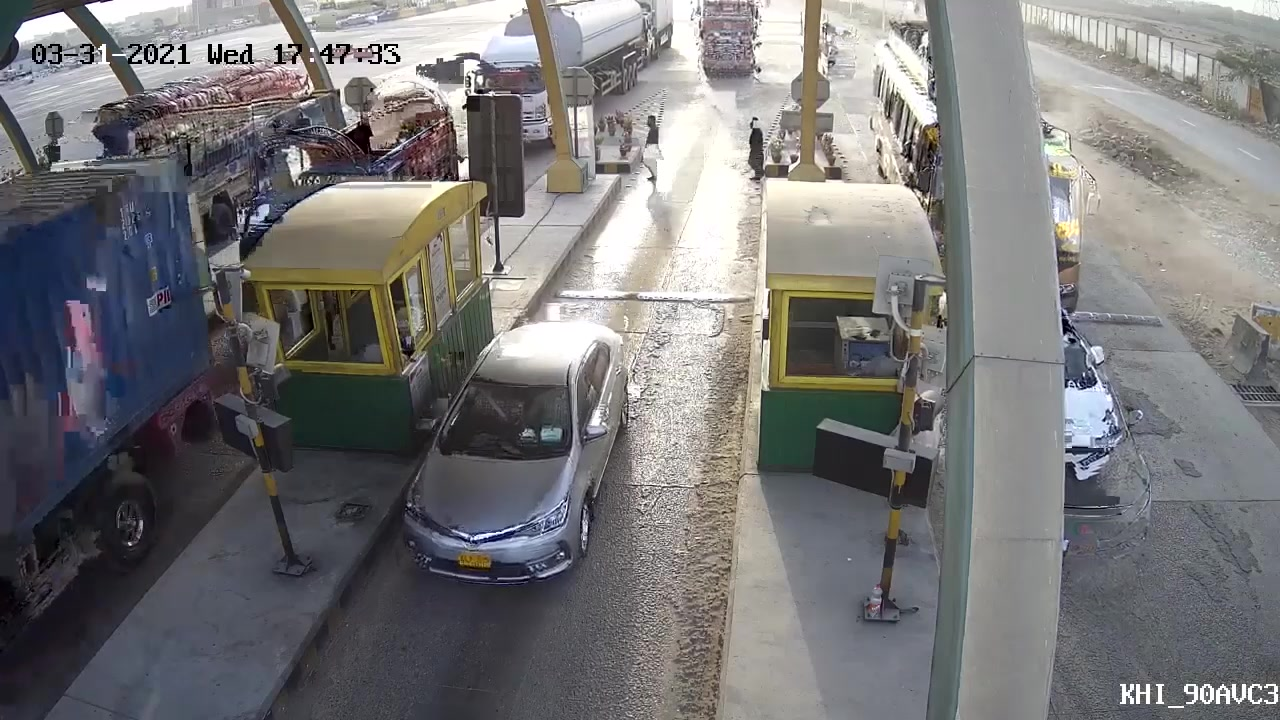F1: (391, 322, 635, 605)
